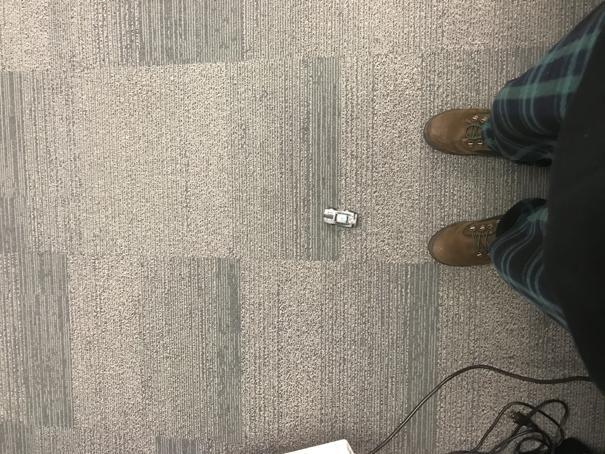Charger: (324, 206, 359, 228)
